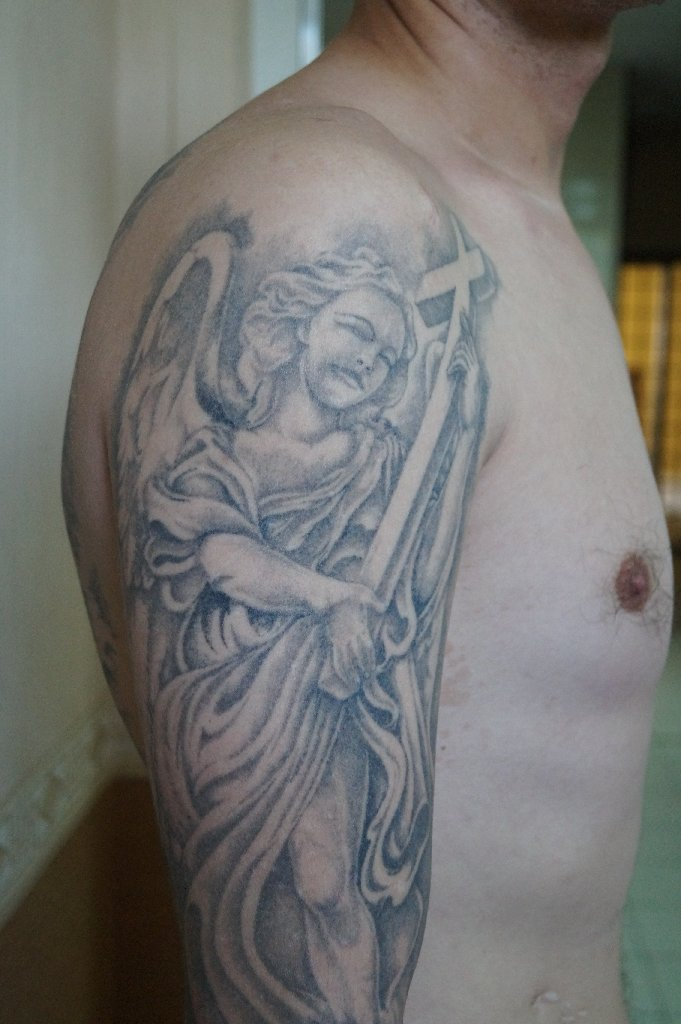tatu1_angel: (87, 194, 504, 1023)
